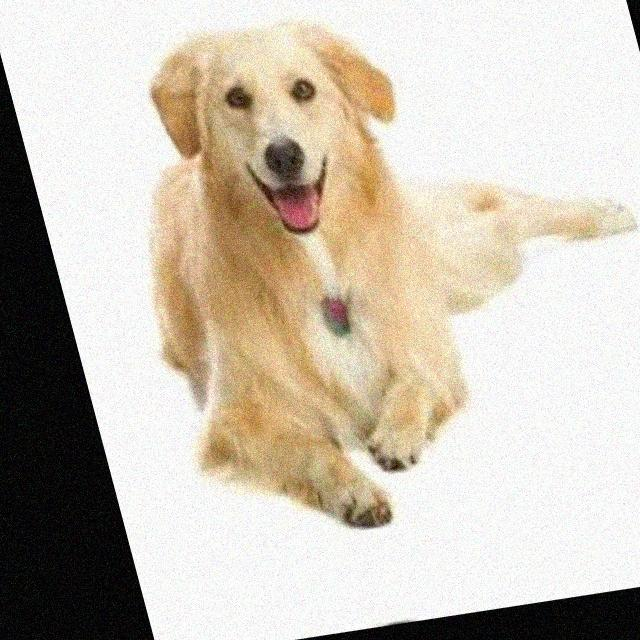dog: (117, 0, 453, 272)
